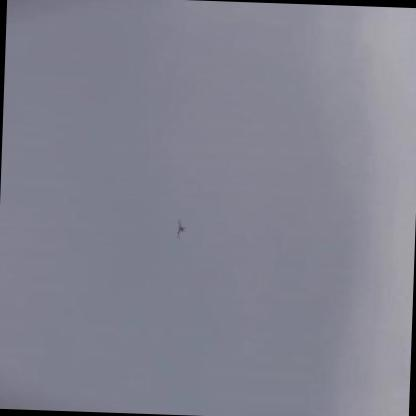plane: (177, 218, 188, 238)
